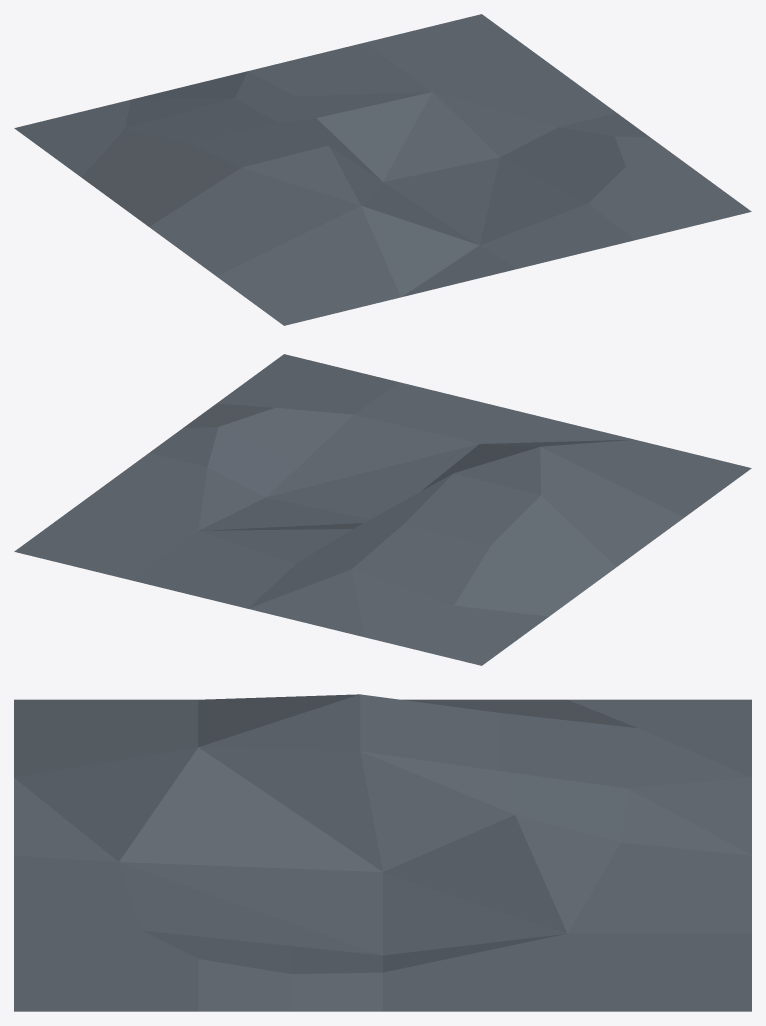
Rendered from Floor07.fbx.
The picture shows the model from 3 angles, top to bottom: view 1: azimuth 30°, elevation 25°; view 2: azimuth 150°, elevation 25°; view 3: azimuth 270°, elevation 25°; orthographic projection. The views are drawn at different scales.
Visible parts, largest first — view 1: Floor07; view 2: Floor07; view 3: Floor07.
Part boxes in pixels (x1=…): Floor07: x1=14, y1=14, x2=751, y2=325; Floor07: x1=14, y1=354, x2=751, y2=665; Floor07: x1=14, y1=694, x2=751, y2=1011.
Bounding box in the file's own units: 2032 × 257 × 2032.
